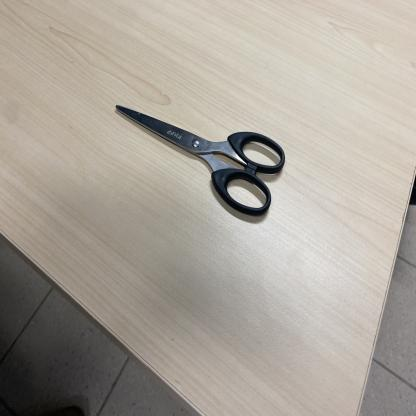scissors: (116, 102, 288, 218)
